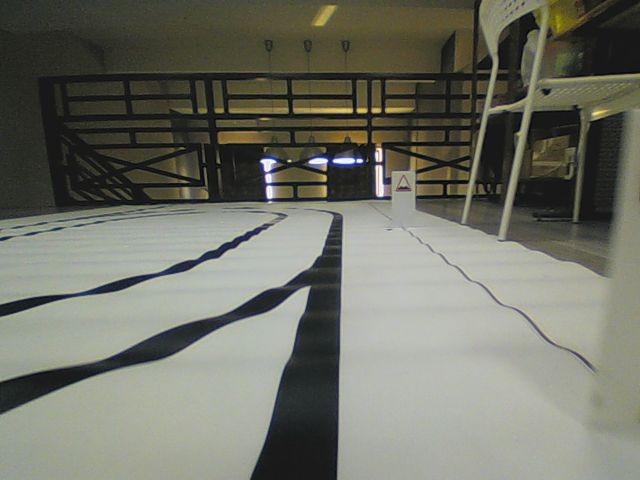Nerov: (394, 173, 412, 193)
